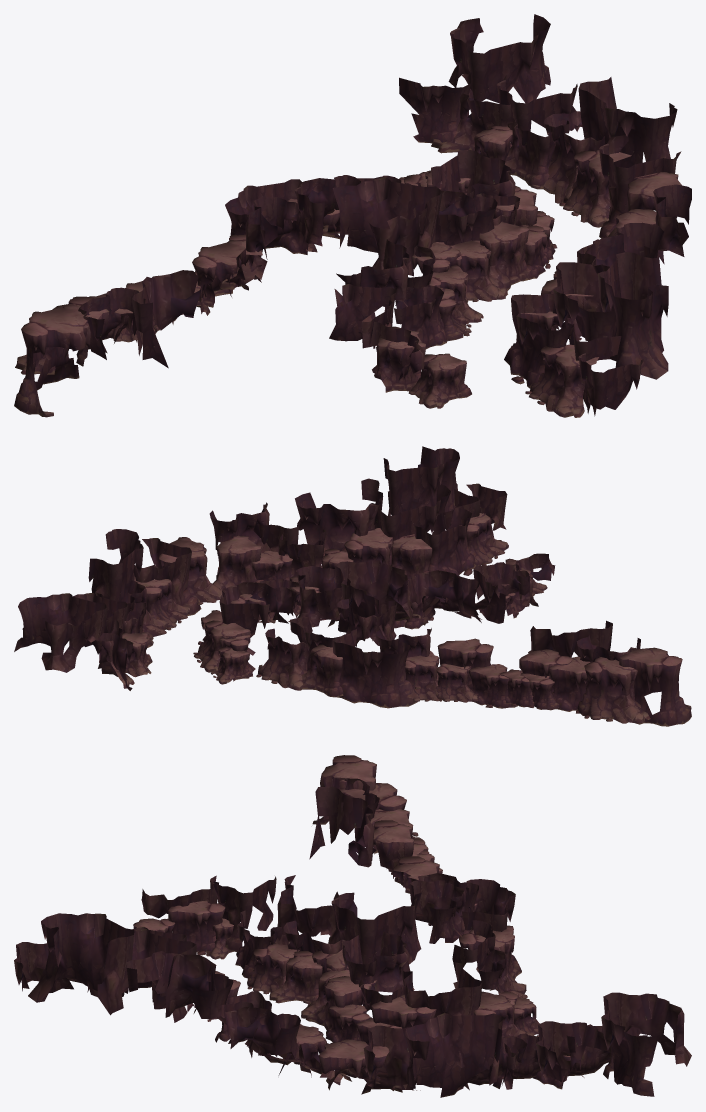
The model's file is area11_shiqiang_02.FBX.
3 views of the same model, one above another, from view 1: azimuth 30°, elevation 25°; view 2: azimuth 150°, elevation 25°; view 3: azimuth 270°, elevation 25° (orthographic). The views are drawn at different scales.
Visible parts, largest first — view 1: area11_shiqiang_02; view 2: area11_shiqiang_02; view 3: area11_shiqiang_02.
Boxes of the visible parts, x1,y1,x2,y2 form: area11_shiqiang_02: [14, 14, 691, 417]; area11_shiqiang_02: [14, 446, 691, 726]; area11_shiqiang_02: [14, 755, 691, 1097].
Bounding box in the file's own units: 13681 × 2237 × 12365.
